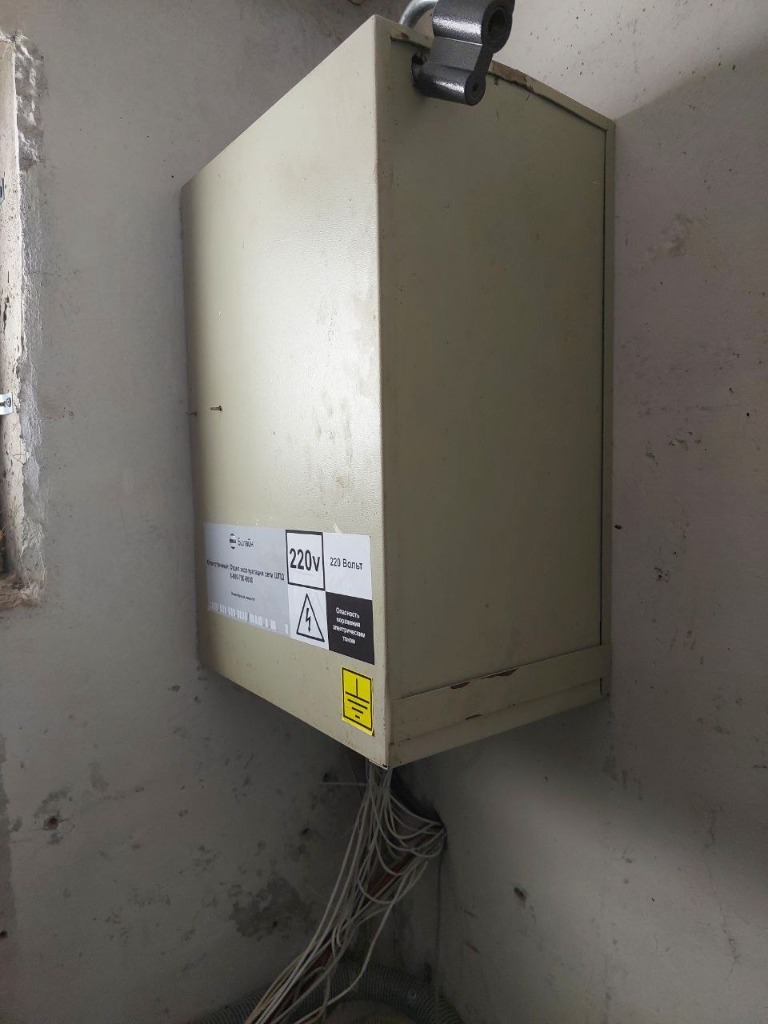sv-5: (174, 10, 621, 772)
